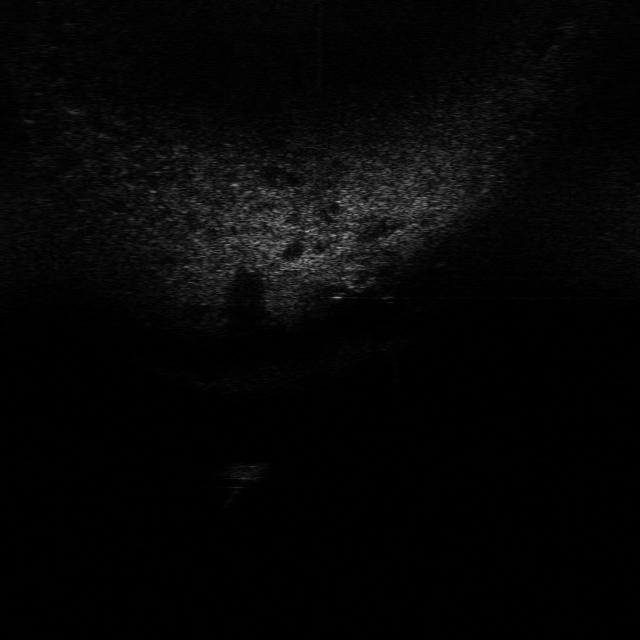ball: (369, 266, 407, 302)
cube: (212, 457, 269, 487)
